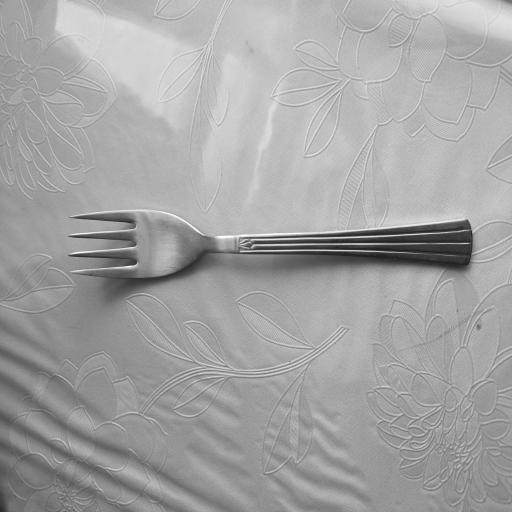fork: (68, 200, 476, 286)
